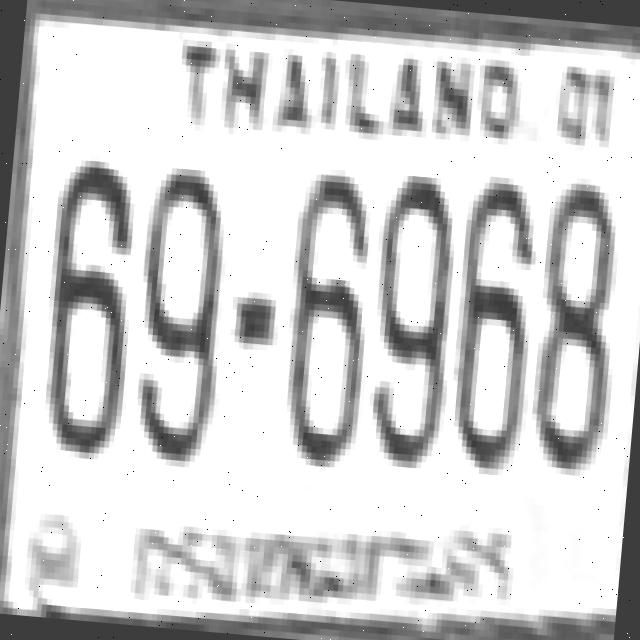6: (36, 154, 138, 451), (274, 165, 376, 462), (443, 174, 540, 464)
8: (525, 174, 622, 464)
9: (128, 159, 230, 456), (362, 167, 458, 463)
Bangkok: (110, 494, 532, 640)
